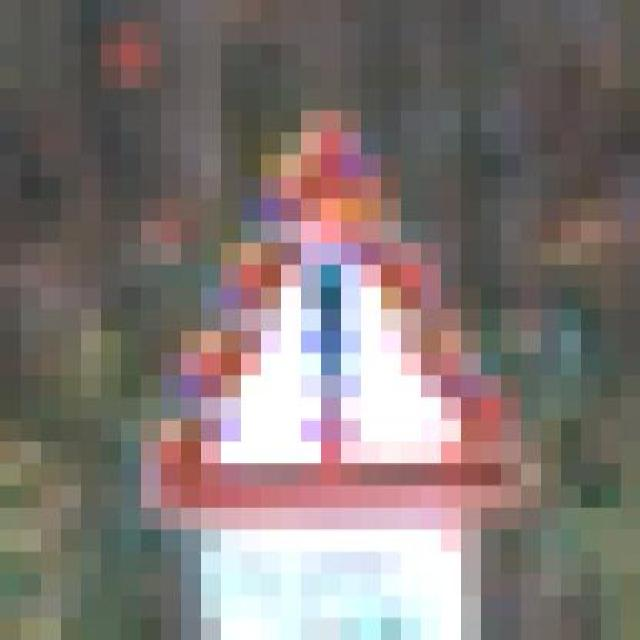Attention Please-: (140, 88, 540, 508)
